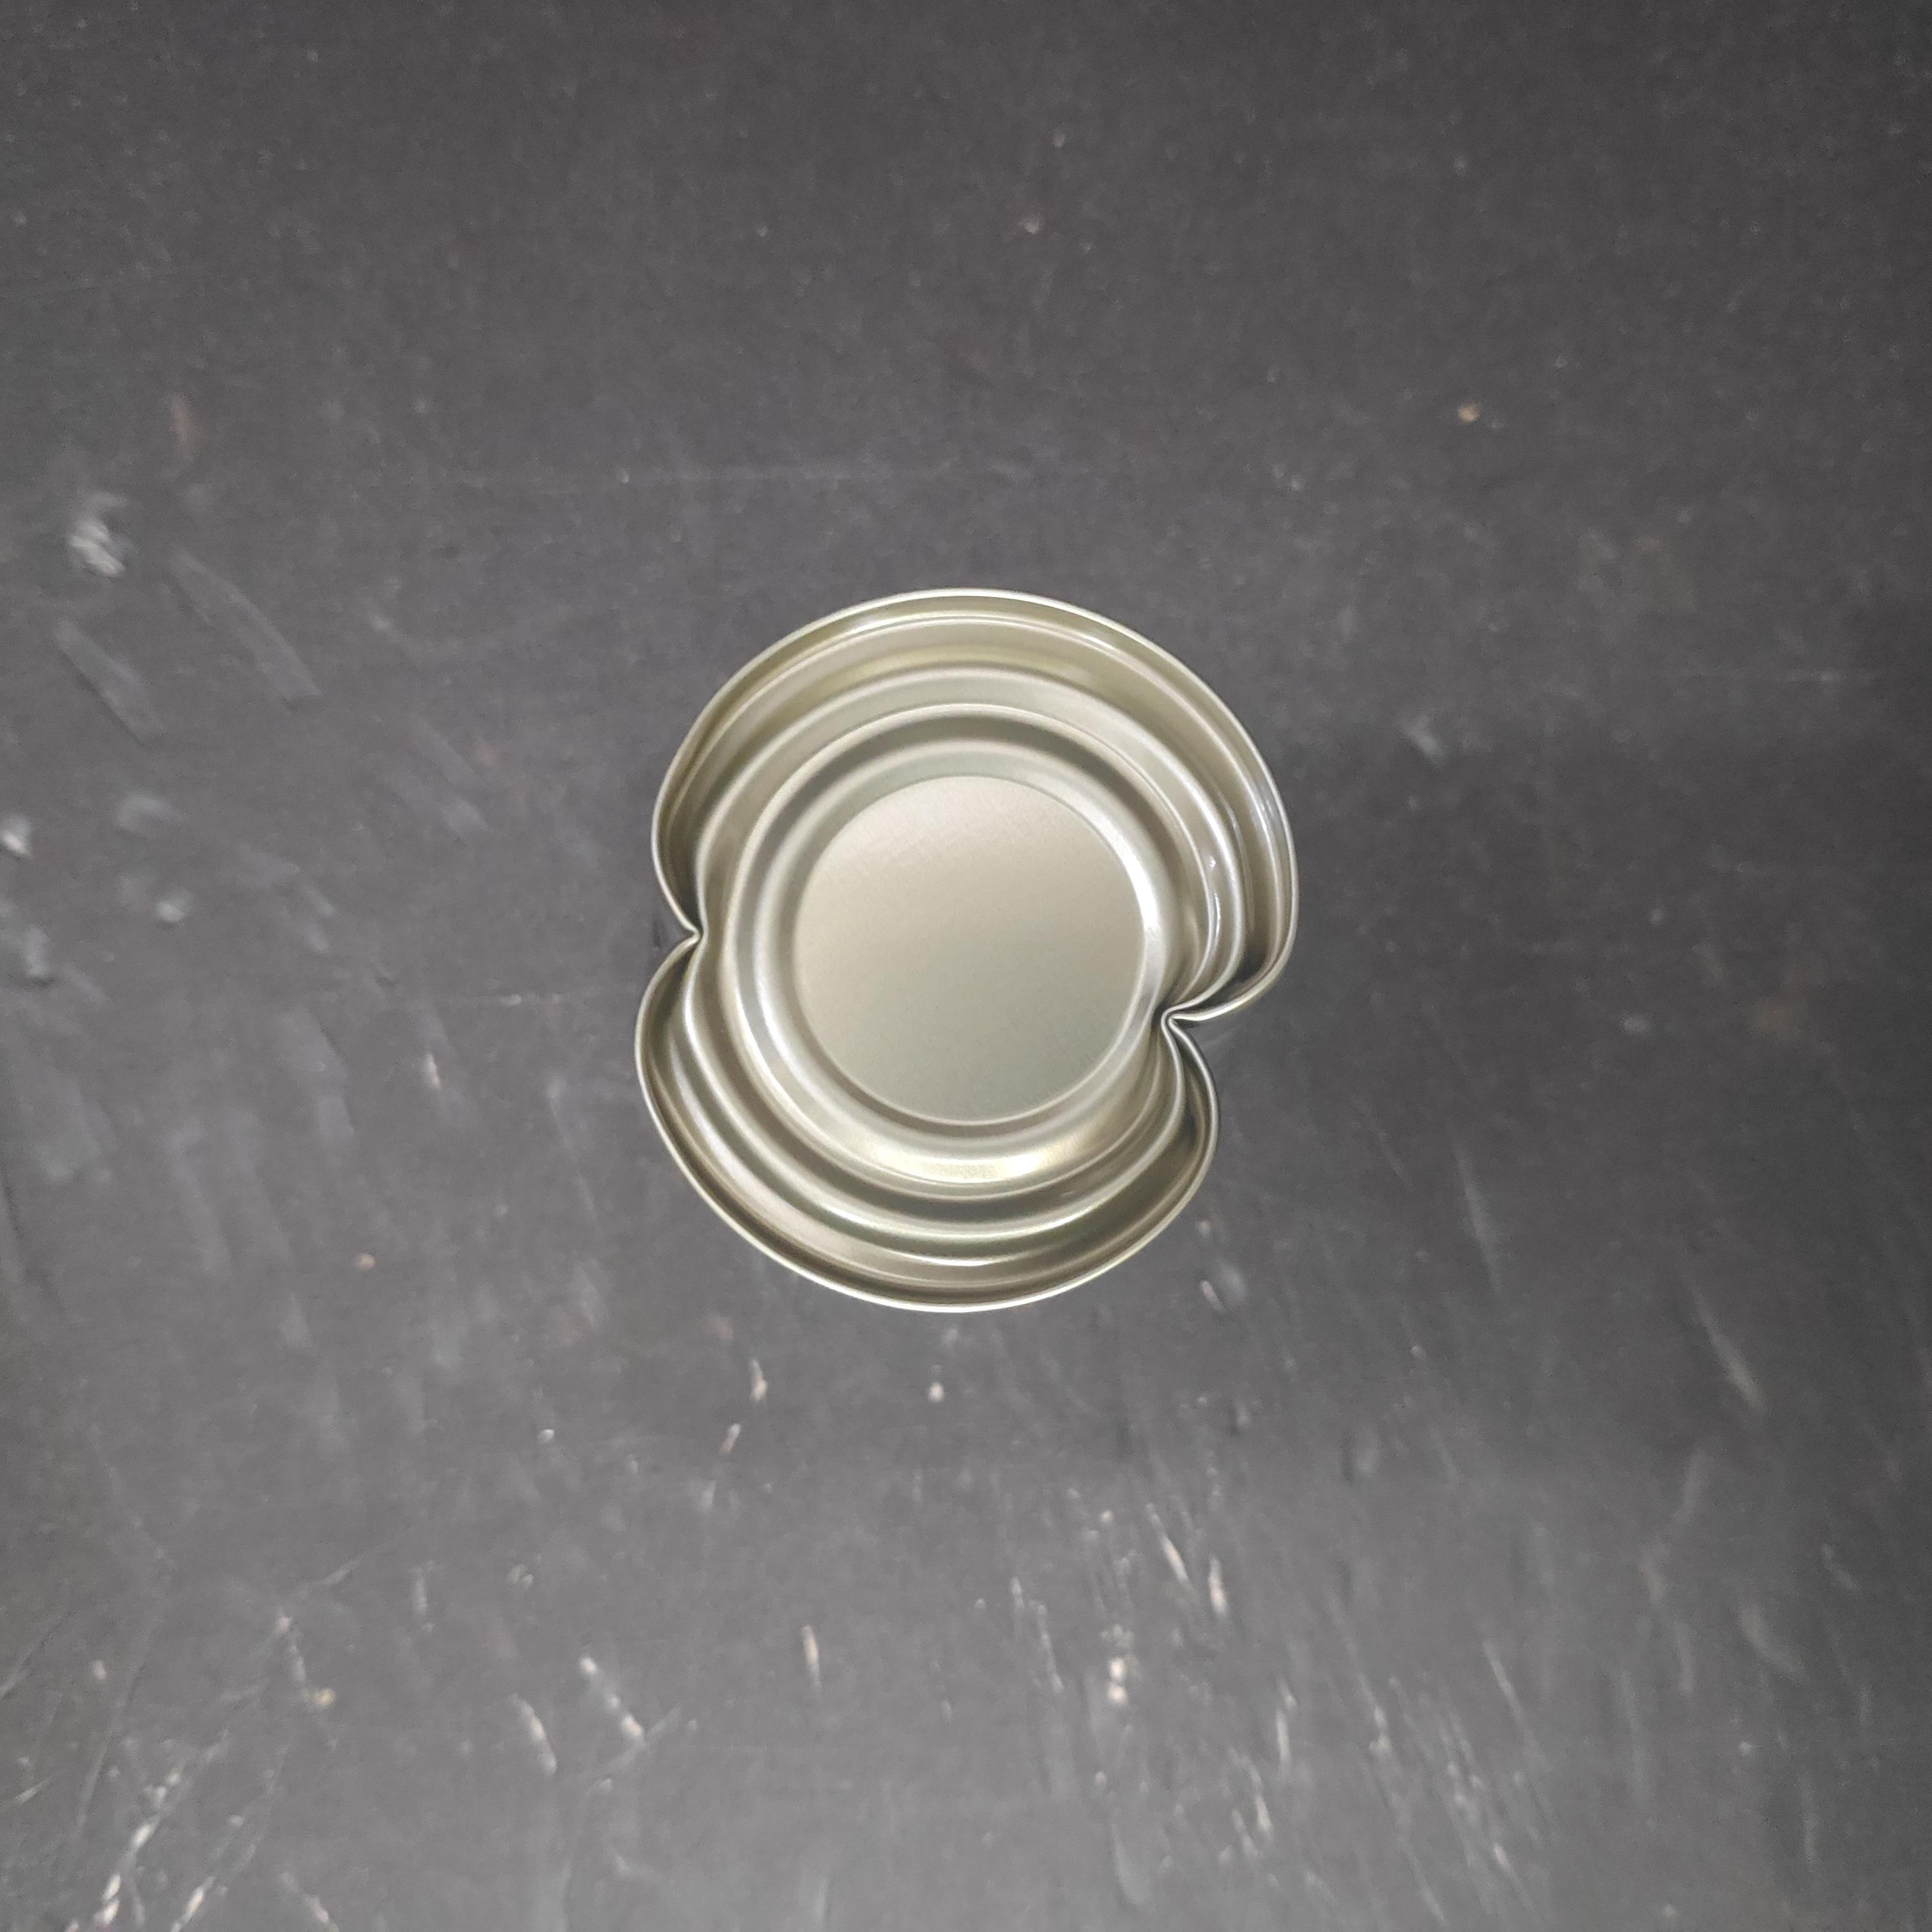Critical Defect: (630, 607, 1316, 1359)
